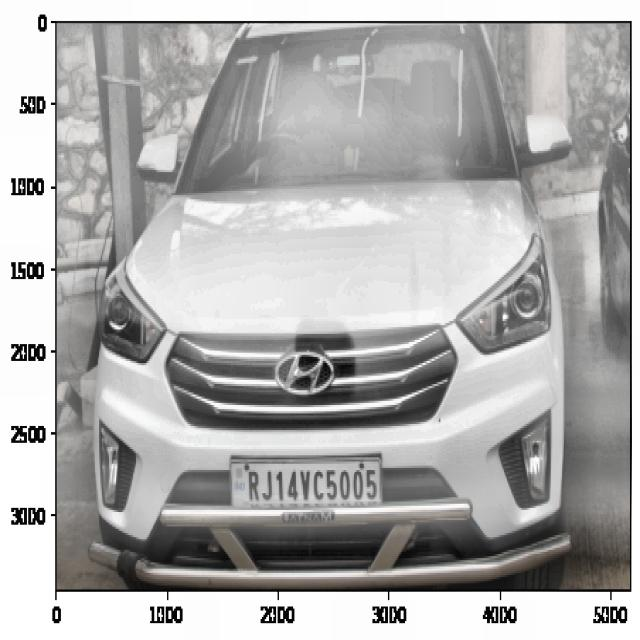license_plate: (244, 457, 380, 512)
